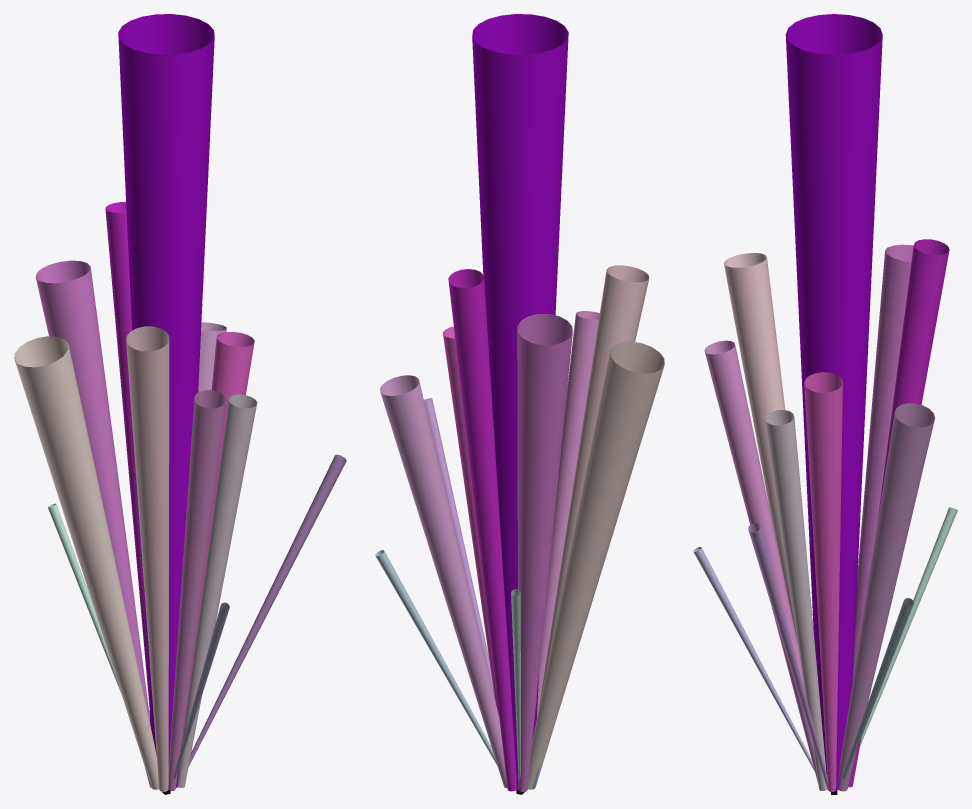
File: endprops.glb
3 renders of one model, left to right at view 1: azimuth 30°, elevation 25°; view 2: azimuth 150°, elevation 25°; view 3: azimuth 270°, elevation 25°, orthographic.
Visible parts, largest first — view 1: SHAFTS_beam; view 2: SHAFTS_beam; view 3: SHAFTS_beam.
Part boxes in pixels (x1=…): SHAFTS_beam: x1=14, y1=14, x2=346, y2=791; SHAFTS_beam: x1=375, y1=14, x2=664, y2=792; SHAFTS_beam: x1=693, y1=14, x2=957, y2=791.
Size of the model in its own units: 23.02 by 58.7 by 18.53.
